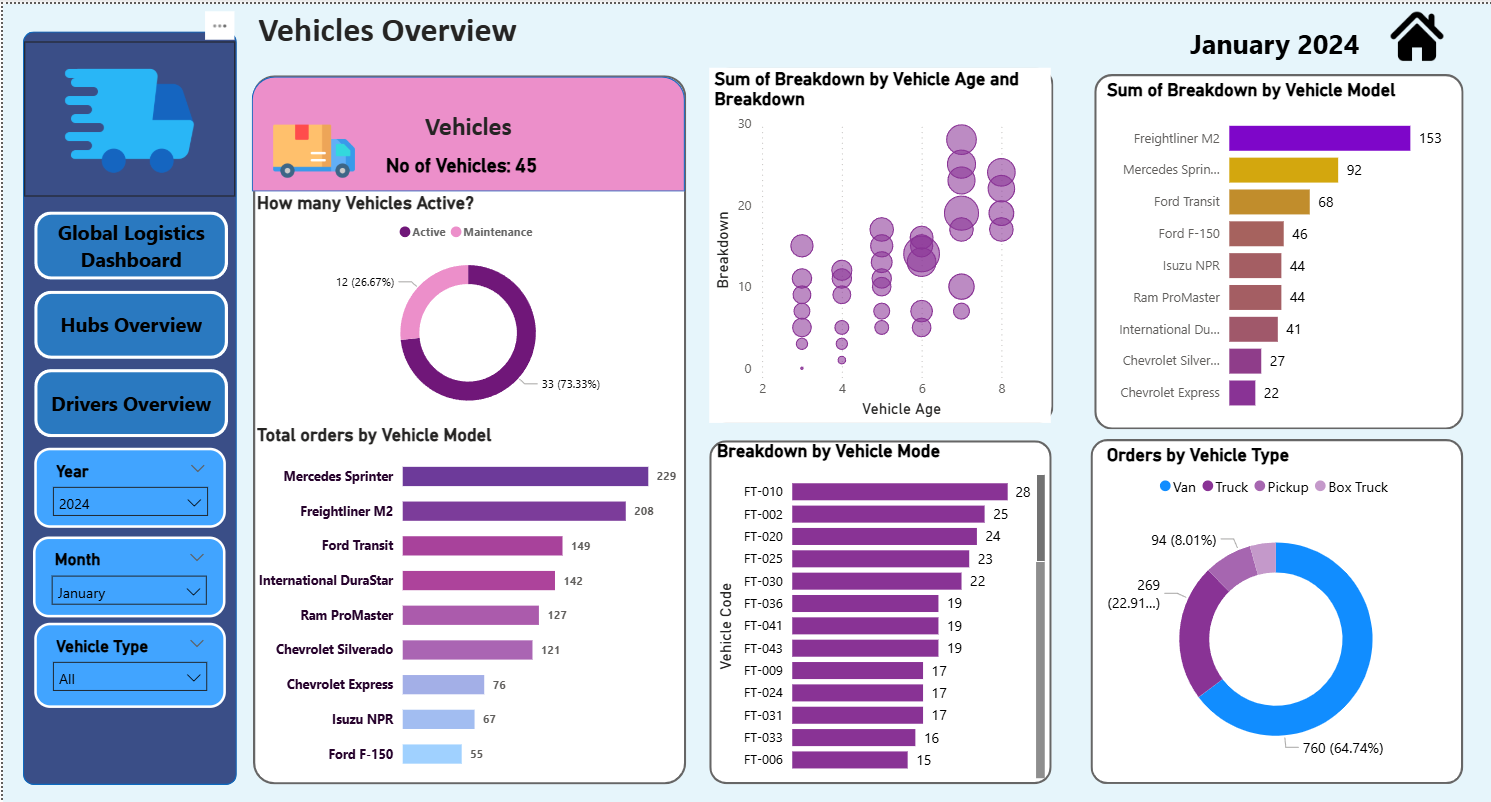

This screenshot's page, from the dashboard's own definition file:
{"tool":"powerbi","page":{"name":"Vehicles Overview","canvas":[1400,750],"ordinal":3},"visuals":[{"type":"shape","box":[19.1,26,200.8,707.7],"z":0},{"type":"textbox","box":[235.2,0,309.5,59.5],"z":1000},{"type":"slicer","fields":{"Values":["Date Table.Year"]},"box":[29.7,417.3,180.3,75.1],"z":2000},{"type":"slicer","fields":{"Values":["Date Table.Month"]},"box":[28.2,499.6,180.8,76.1],"z":3000},{"type":"shape","box":[234.2,67.4,406.9,666],"z":4000},{"type":"textbox","box":[351.2,85.5,173.6,42.8],"z":5000},{"type":"image","box":[20.5,35.5,198.1,144.8],"z":6000},{"type":"card","fields":{"Values":["Orders.YearMonth Title"]},"box":[1044.4,7.8,299.3,59.6],"z":7000},{"type":"image","box":[1298.4,0,59.6,60.9],"z":8000},{"type":"slicer","fields":{"Values":["Vehicles.Vehicle Model"]},"box":[29.7,581.2,179.8,79.7],"z":9000},{"type":"shape","box":[233.8,67.6,406.8,108.1],"z":10000},{"type":"card","fields":{"Values":["Vehicles.No Of Vehicles"]},"box":[336.6,137.9,187.9,29.7],"z":11000},{"type":"textbox","box":[350.1,94.6,174.4,43.3],"z":12000},{"type":"donutChart","title":"How many Vehicles Active?","fields":{"Category":["Vehicles.Vehicle Status"],"Y":["CountNonNull(Vehicles.Vehicle ID)"]},"box":[233.8,175.7,406.8,219],"z":13000},{"type":"barChart","fields":{"Category":["Vehicles.Vehicle Model"],"Y":["Orders.Total orders"]},"box":[233.8,394.7,408.2,337.9],"z":14000},{"type":"image","box":[246,94.6,90.6,86.5],"z":15000},{"type":"shape","box":[666.3,59.7,321,333.9],"z":16000},{"type":"shape","box":[1024.4,66.1,346.9,333.9],"z":17000},{"type":"shape","box":[663.6,409.5,321.7,323],"z":18000},{"type":"shape","box":[1021.2,408.2,350.1,324.3],"z":19000},{"type":"clusteredBarChart","title":"Breakdown by Vehicle Mode","fields":{"Category":["Vehicles.Vehicle Code"],"Y":["Sum(Vehicles.Breakdown)"]},"box":[666.3,409.8,317.8,322.7],"z":20000},{"type":"donutChart","title":"Orders by Vehicle Type","fields":{"Category":["Orders.Vehicle Type"],"Y":["Orders.Total orders"]},"box":[1032.5,413,327.5,317.8],"z":21000},{"type":"clusteredBarChart","fields":{"Category":["Vehicles.Vehicle Model"],"Y":["Sum(Vehicles.Breakdown)"]},"box":[1032.5,71,327.5,324.3],"z":22000},{"type":"scatterChart","fields":{"X":["Vehicles.Vehicle Age"],"Y":["Vehicles.Breakdown"],"Size":["Sum(Vehicles.Breakdown)1"]},"box":[663.1,59.7,321,333.9],"z":23000},{"type":"pageNavigator","box":[29,195.2,182.3,213],"z":24000}]}

Visuals, with their boxes in screenshot pixels (x1, y1, x2, y2), scaled from the page's 1400x750 canvas onto the 1491x802 screenshot:
shape: {"left": 20, "top": 28, "right": 234, "bottom": 785}
textbox: {"left": 250, "top": 0, "right": 580, "bottom": 64}
slicer - Date Table.Year: {"left": 32, "top": 446, "right": 224, "bottom": 527}
slicer - Date Table.Month: {"left": 30, "top": 534, "right": 223, "bottom": 616}
shape: {"left": 249, "top": 72, "right": 683, "bottom": 784}
textbox: {"left": 374, "top": 91, "right": 559, "bottom": 137}
image: {"left": 22, "top": 38, "right": 233, "bottom": 193}
card - Orders.YearMonth Title: {"left": 1112, "top": 8, "right": 1431, "bottom": 72}
image: {"left": 1383, "top": 0, "right": 1446, "bottom": 65}
slicer - Vehicles.Vehicle Model: {"left": 32, "top": 621, "right": 223, "bottom": 707}
shape: {"left": 249, "top": 72, "right": 682, "bottom": 188}
card - Vehicles.No Of Vehicles: {"left": 358, "top": 147, "right": 559, "bottom": 179}
textbox: {"left": 373, "top": 101, "right": 559, "bottom": 147}
"How many Vehicles Active?" donutChart: {"left": 249, "top": 188, "right": 682, "bottom": 422}
barChart - Vehicles.Vehicle Model x Orders.Total orders: {"left": 249, "top": 422, "right": 684, "bottom": 783}
image: {"left": 262, "top": 101, "right": 358, "bottom": 194}
shape: {"left": 710, "top": 64, "right": 1051, "bottom": 421}
shape: {"left": 1091, "top": 71, "right": 1460, "bottom": 428}
shape: {"left": 707, "top": 438, "right": 1049, "bottom": 783}
shape: {"left": 1088, "top": 437, "right": 1460, "bottom": 783}
"Breakdown by Vehicle Mode" clusteredBarChart: {"left": 710, "top": 438, "right": 1048, "bottom": 783}
"Orders by Vehicle Type" donutChart: {"left": 1100, "top": 442, "right": 1448, "bottom": 781}
clusteredBarChart - Vehicles.Vehicle Model x Sum(Vehicles.Breakdown): {"left": 1100, "top": 76, "right": 1448, "bottom": 423}
scatterChart - Vehicles.Vehicle Age x Vehicles.Breakdown: {"left": 706, "top": 64, "right": 1048, "bottom": 421}
pageNavigator: {"left": 31, "top": 209, "right": 225, "bottom": 437}
